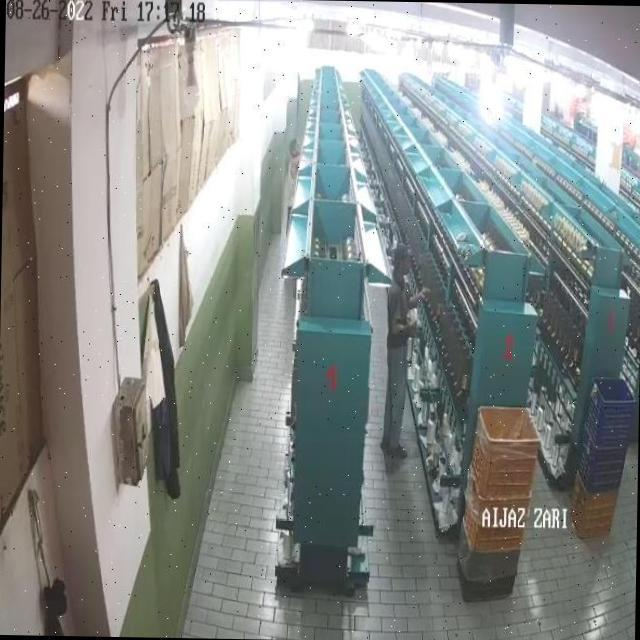person: (383, 245, 412, 462)
